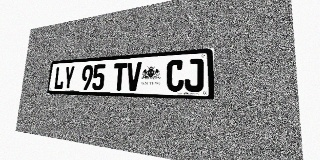5: (92, 64, 106, 90)
9: (81, 65, 94, 90)
C: (166, 59, 184, 92)
J: (184, 58, 203, 92)
L: (53, 66, 65, 90)
T: (112, 63, 127, 91)
V: (126, 62, 142, 91)
Y: (63, 66, 75, 90)
